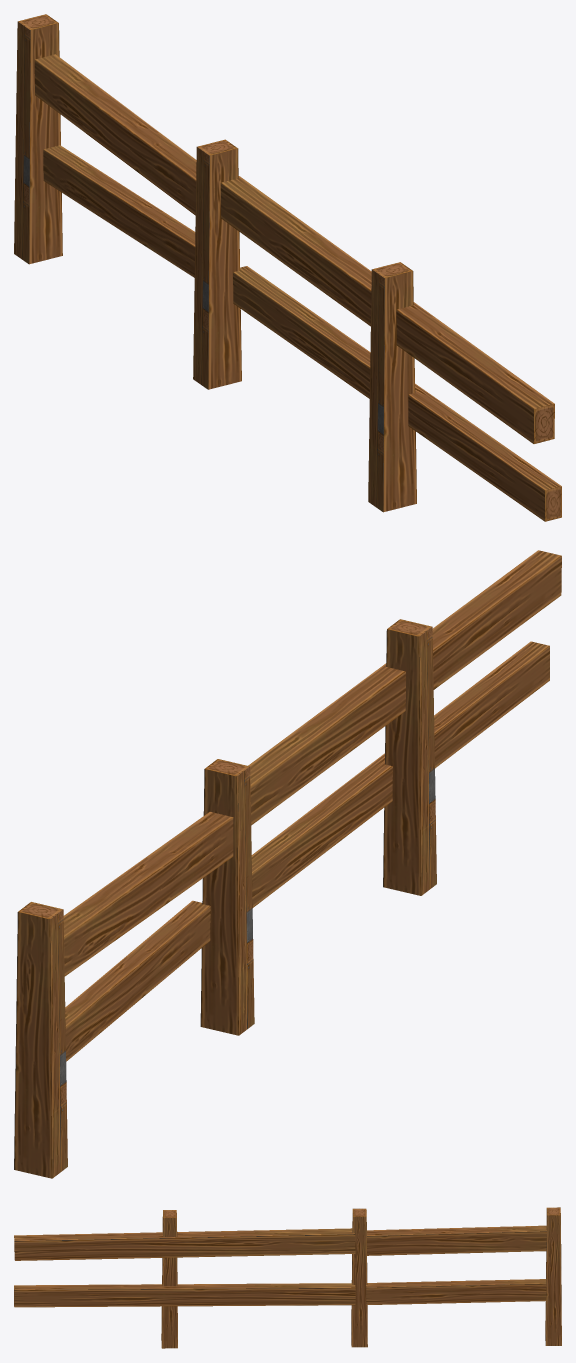
The picture shows the model from 3 angles, top to bottom: view 1: azimuth 30°, elevation 25°; view 2: azimuth 150°, elevation 25°; view 3: azimuth 270°, elevation 25°; orthographic projection. The views are drawn at different scales.
Visible parts, largest first — view 1: Cube.2140; view 2: Cube.2140; view 3: Cube.2140.
Part boxes in pixels (x1,y1,x2,y2): Cube.2140: [14, 14, 561, 521]; Cube.2140: [14, 550, 561, 1178]; Cube.2140: [14, 1207, 561, 1348].
Bounding box in the file's own units: 34.5 × 132 × 504.
1 material, 1 textured.
